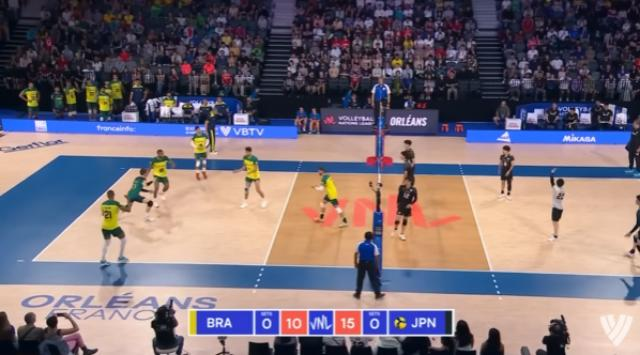Levantador: (304, 158, 358, 240), (488, 138, 520, 202)
Libero: (536, 160, 574, 252), (116, 158, 164, 224)
